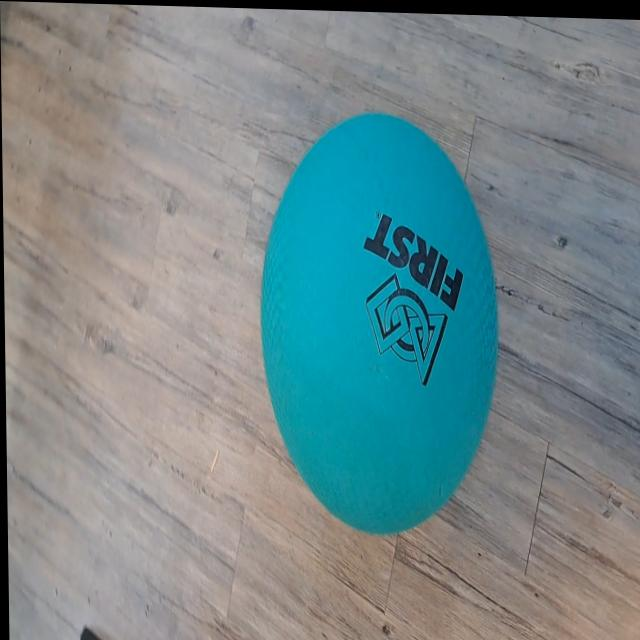ALGAE: (255, 106, 502, 541)
